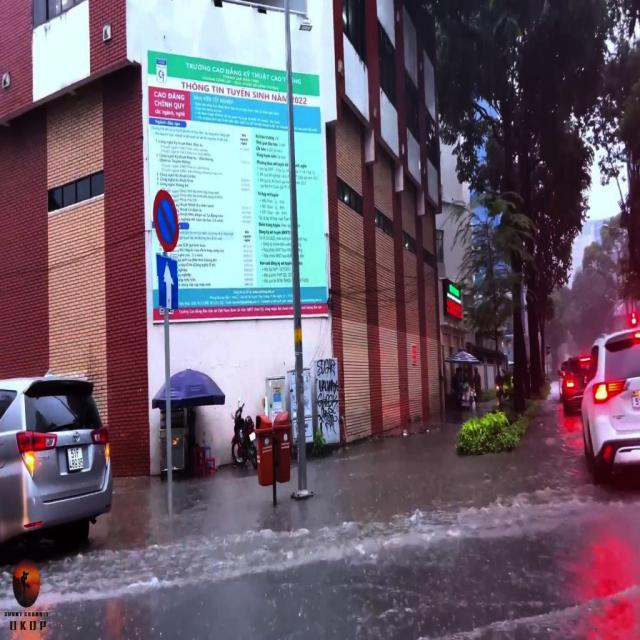cam_do_xe: (153, 188, 179, 252)
duong_mot_chieu: (156, 253, 178, 309)
